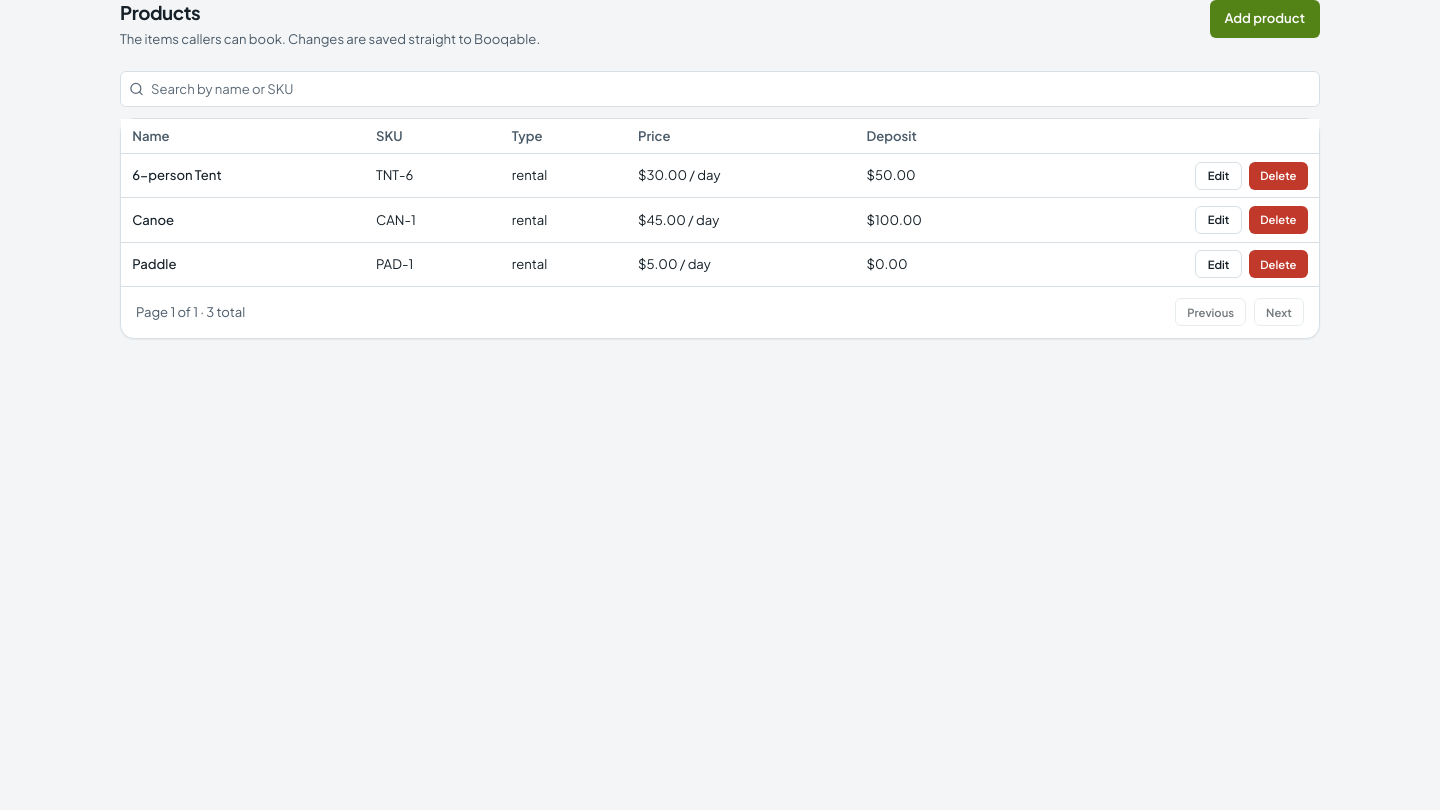
ProductsPage › deletes a product after confirming
Check: the text "Paddle" is shown, box [132,255,176,272]
Click the button with aria-label "Delete Paddle".
click(1278, 264)  # box [1249,250,1308,278]
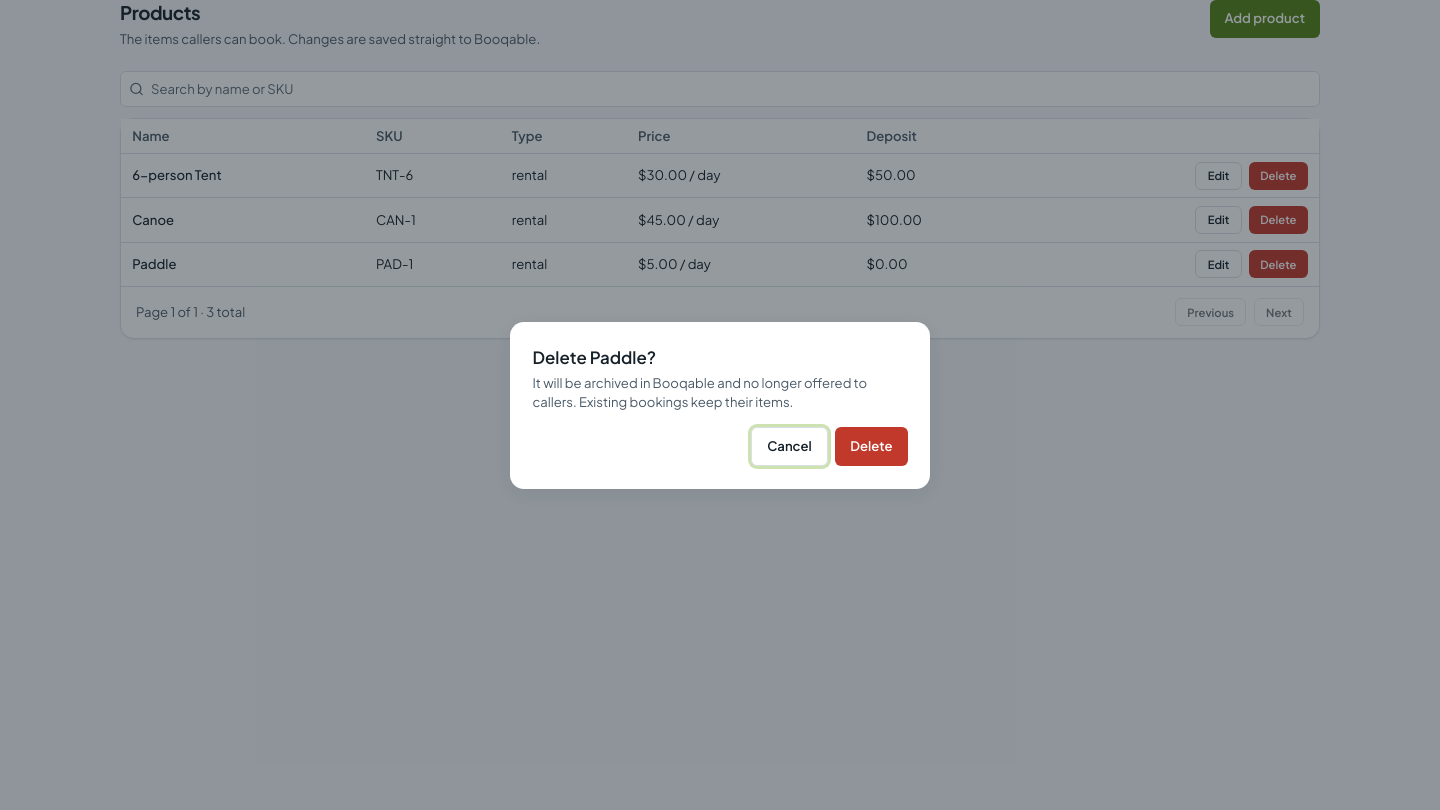
Click the button "Delete".
click(871, 446)  # box [835,426,908,466]
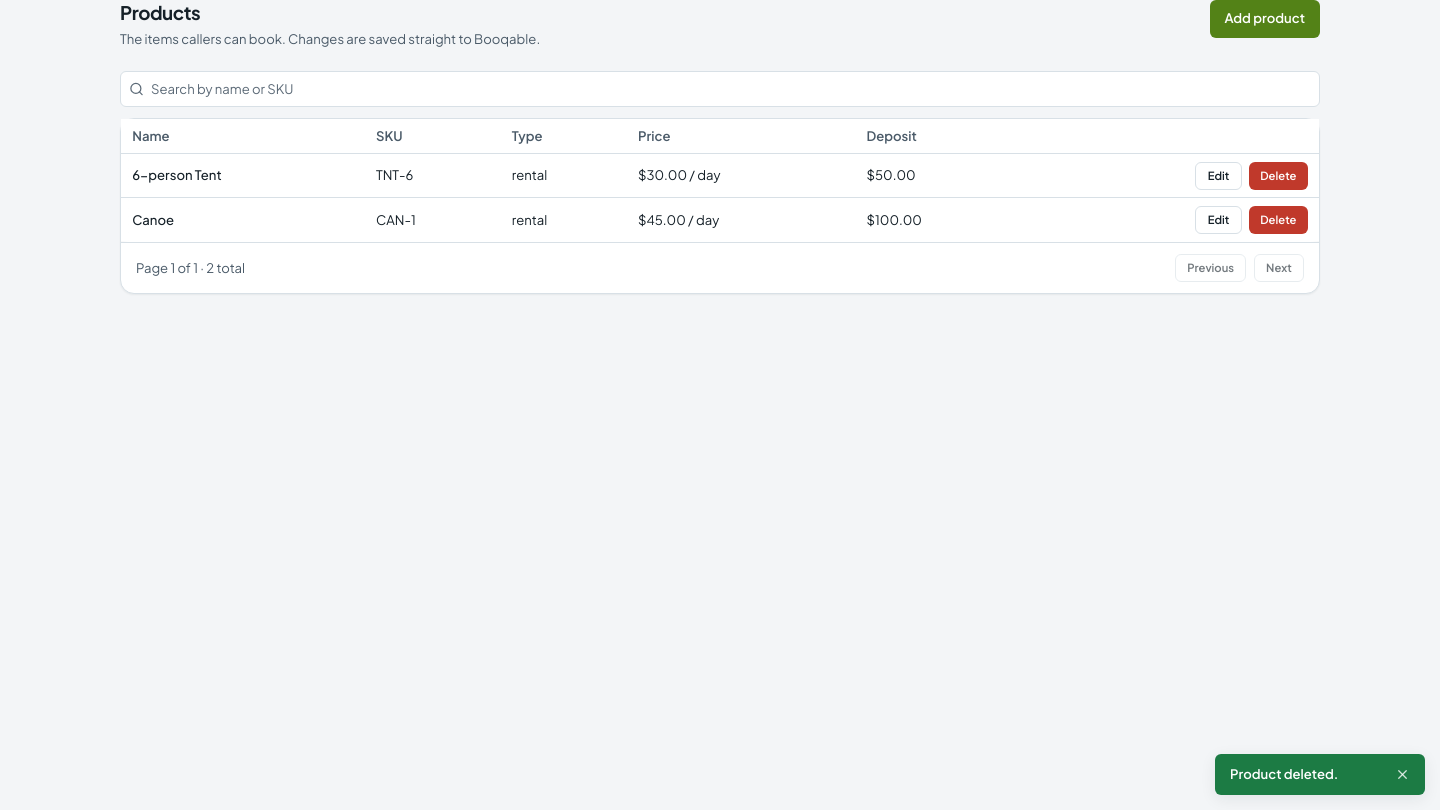
Check: the text "Paddle" is gone
